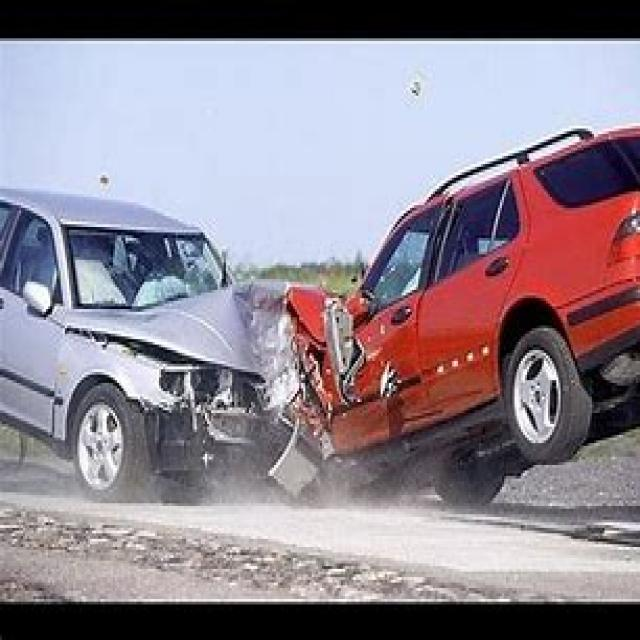Accident: (84, 181, 482, 587)
